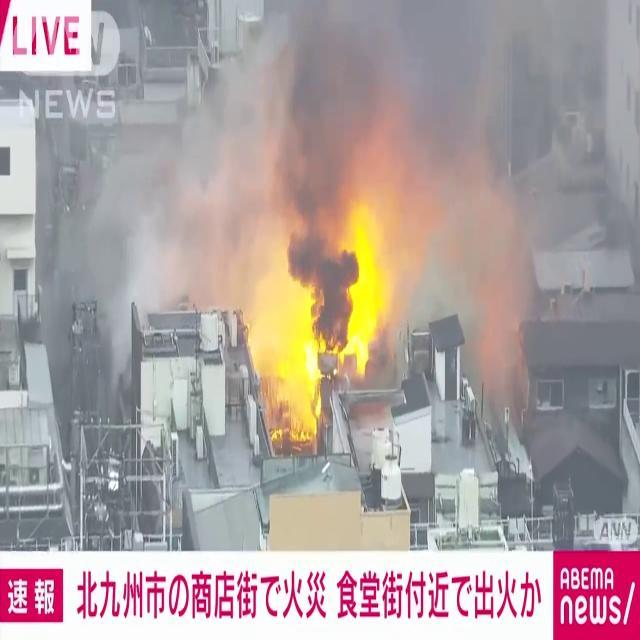Fire: (251, 256, 325, 448), (337, 205, 384, 379)
Smoke: (123, 0, 592, 299)
